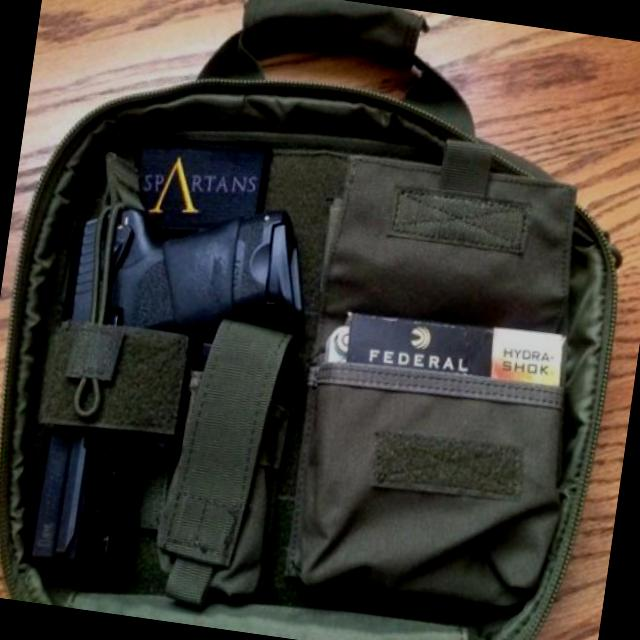handgun: (19, 181, 312, 593)
